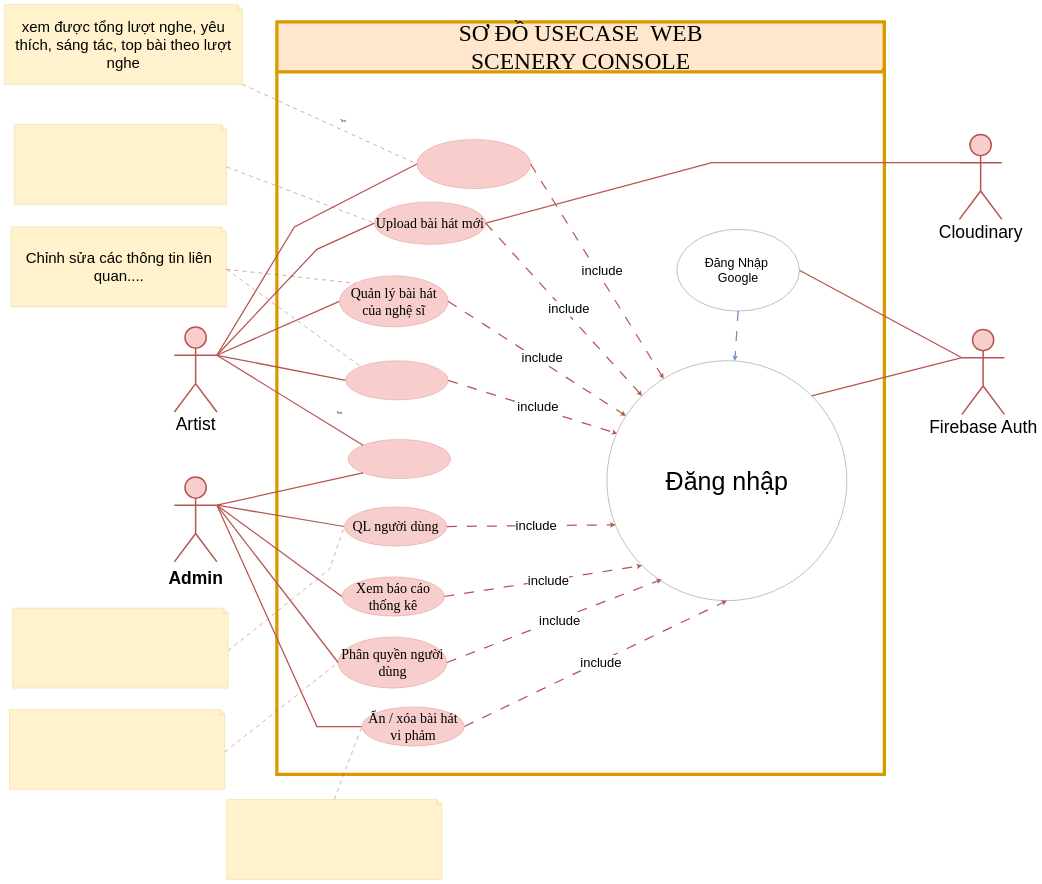
Some shapes in this 1042 by 884 pixel diagram are drawn without their labels. The shapes that lost their labels are listed below. From the top down, each one's centre as x and y in pixels, then its label:
[120,164]: File nhạc upload lên Cloudinary, metadata lưu vào Firestore
[474,164]: Xem báo cáo tổng quan sáng tác
[396,380]: Chỉnh sửa hồ sơ nghệ sĩ
[399,459]: Đăng xuất
[120,648]: Xem thông tin, khóa, xóa tài khoản người dùng/ nghệ sĩ
[117,749]: tài khoản đăng ký nghệ sĩ sẽ được admin đổi role từ user lên artist
[334,839]: Admin sẽ có thể ẩn/xóa bài hát vi phạm
